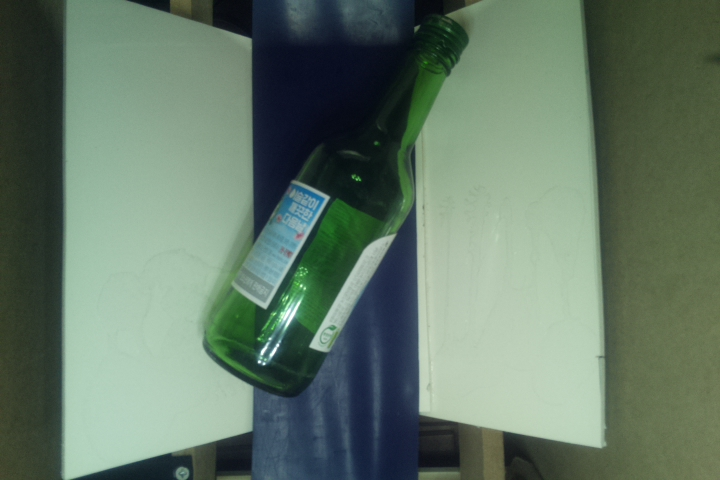soju: (197, 14, 472, 400)
